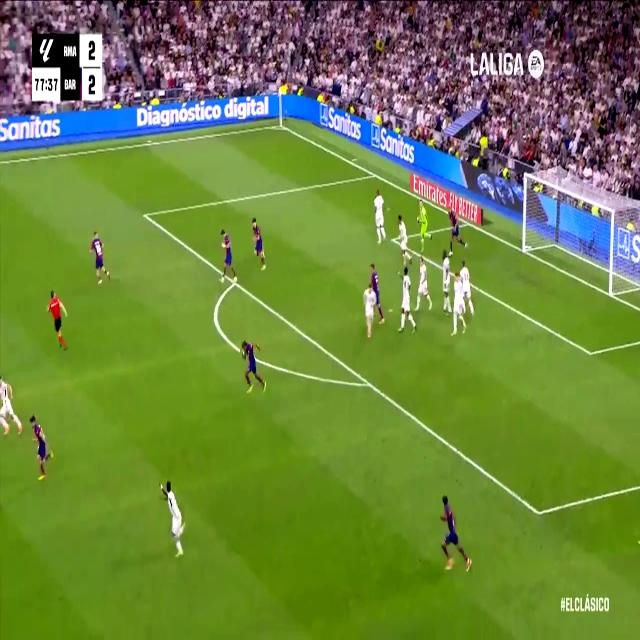bigarea_bottom_inner: (532, 495, 546, 529)
bigarea_bottom_outter: (369, 165, 378, 182)
bigarea_top_outter: (369, 165, 378, 182)
bottom_arc_area_intersection: (361, 369, 375, 395)
corner: (274, 118, 286, 131)
smallarea_bottom_inner: (586, 341, 596, 365)
smallarea_top_inner: (391, 232, 397, 246)
